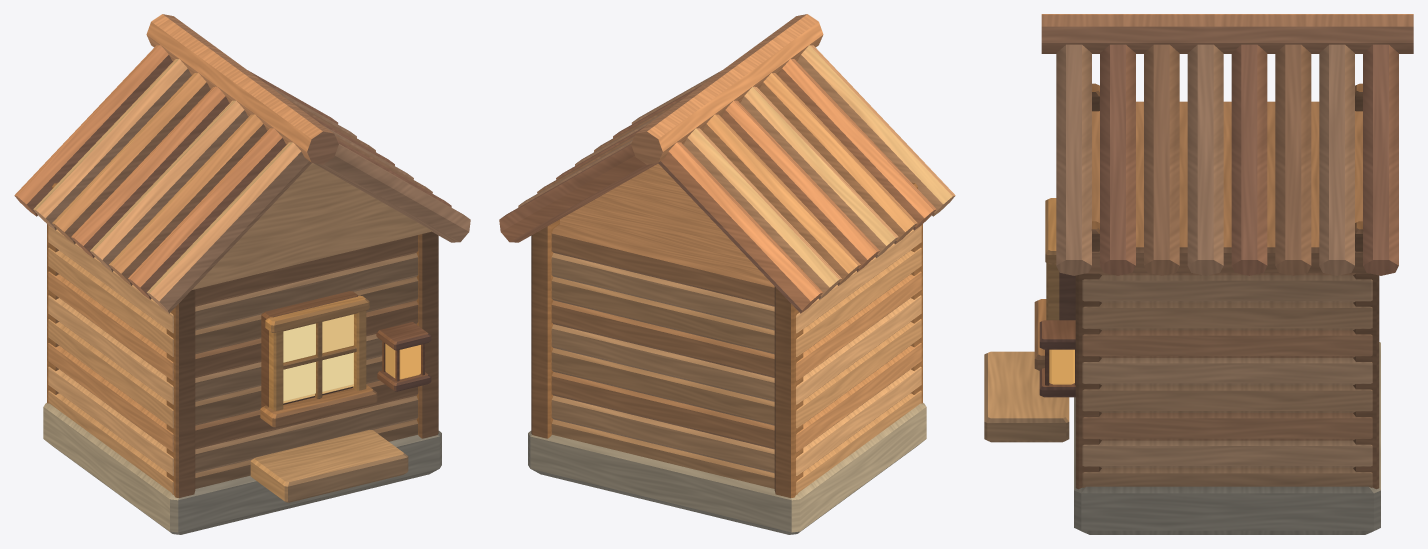
The model's file is cabin_annex_0.glb.
The picture shows the model from 3 angles, left to right: view 1: azimuth 30°, elevation 25°; view 2: azimuth 150°, elevation 25°; view 3: azimuth 270°, elevation 25°; orthographic projection. The views are drawn at different scales.
Visible parts, largest first — view 1: Hofanbau · Außenansicht; view 2: Hofanbau · Außenansicht; view 3: Hofanbau · Außenansicht.
Part boxes in pixels (bbox=[...]): Hofanbau · Außenansicht: bbox=[14, 14, 470, 534]; Hofanbau · Außenansicht: bbox=[499, 14, 955, 534]; Hofanbau · Außenansicht: bbox=[984, 14, 1413, 534].
Size of the model in its own units: 2.91 by 3.38 by 2.94.
Materials: 2 (1 with a texture image).
